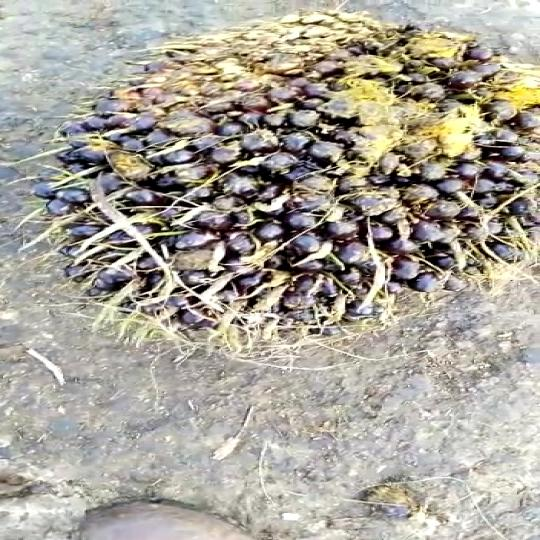mentah: (56, 9, 540, 338)
